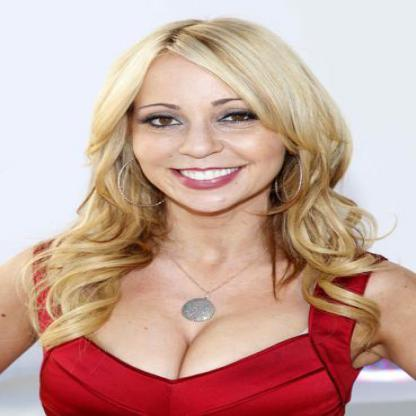long-hair: (51, 212, 373, 262)
